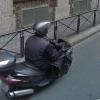Motorcycle: (6, 45, 79, 98)
